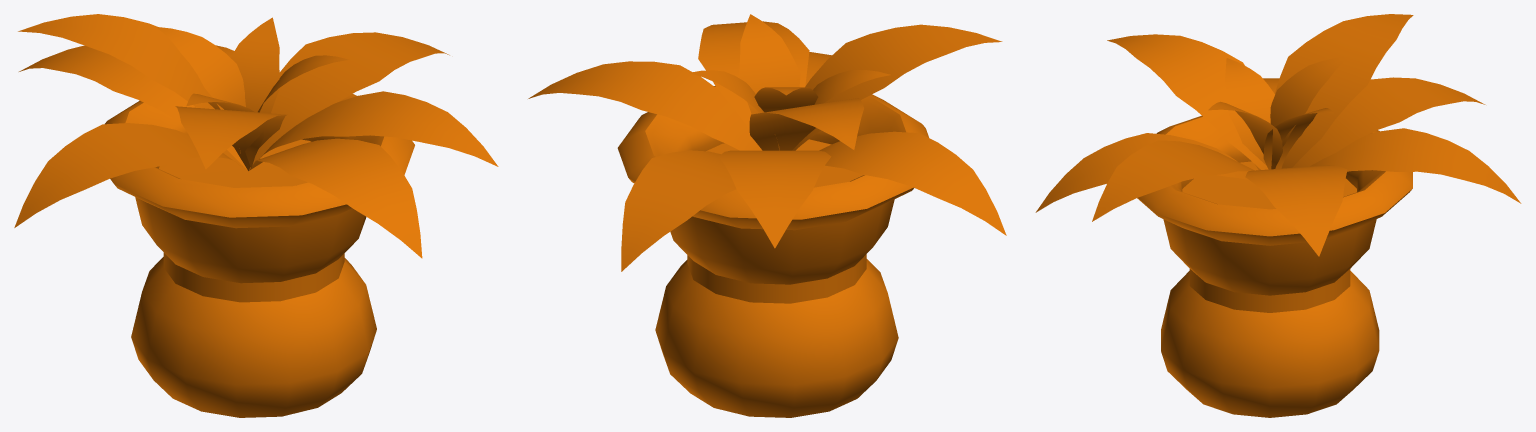
Rendered from SM_Plants004.fbx.
3 renders of one model, left to right at view 1: azimuth 30°, elevation 25°; view 2: azimuth 150°, elevation 25°; view 3: azimuth 270°, elevation 25°, orthographic. The views are drawn at different scales.
Visible parts, largest first — view 1: SM_Plants004; view 2: SM_Plants004; view 3: SM_Plants004.
Boxes of the visible parts, x1,y1,x2,y2 form: SM_Plants004: (14, 14, 498, 417); SM_Plants004: (528, 14, 1006, 417); SM_Plants004: (1035, 14, 1521, 417).
Bounding box in the file's own units: 178 × 123 × 179.
